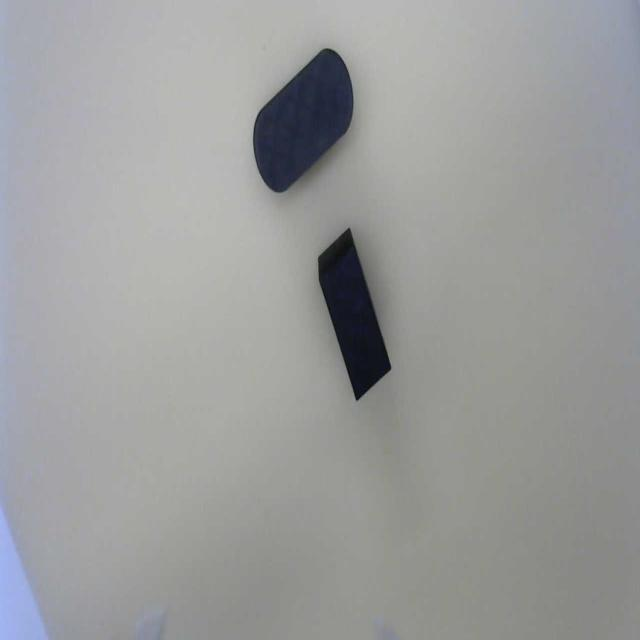oval: (243, 36, 360, 211)
rectangle: (318, 242, 392, 403)
